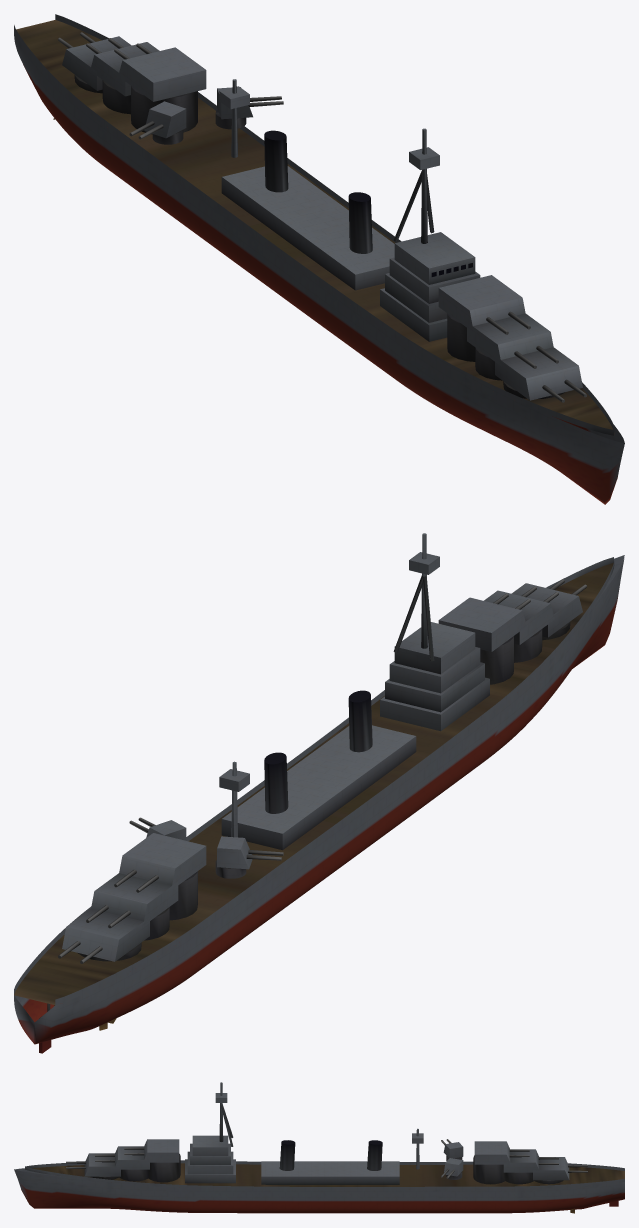
The model's file is model_built.glb.
3 renders of one model, top to bottom at view 1: azimuth 30°, elevation 25°; view 2: azimuth 150°, elevation 25°; view 3: azimuth 270°, elevation 25°, orthographic. The views are drawn at different scales.
Visible parts, largest first — view 1: main; view 2: main; view 3: main.
Part boxes in pixels (box(x1,y1,x2,y2)): main: box(14, 14, 624, 504); main: box(14, 533, 624, 1053); main: box(14, 1082, 624, 1213).
Bounding box in the file's own units: 24.95 × 38.19 × 168.
1 material, 1 textured.
